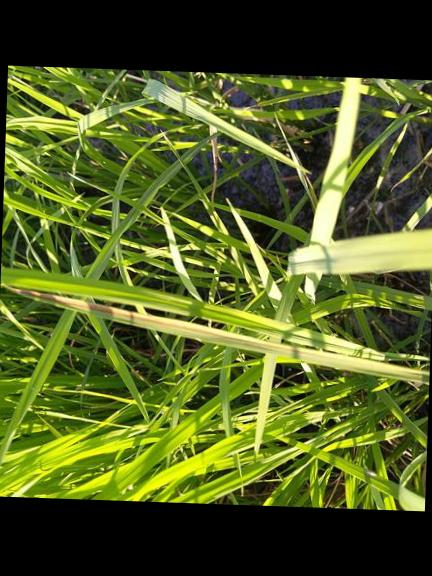Leaf Streak: (17, 288, 396, 366)
